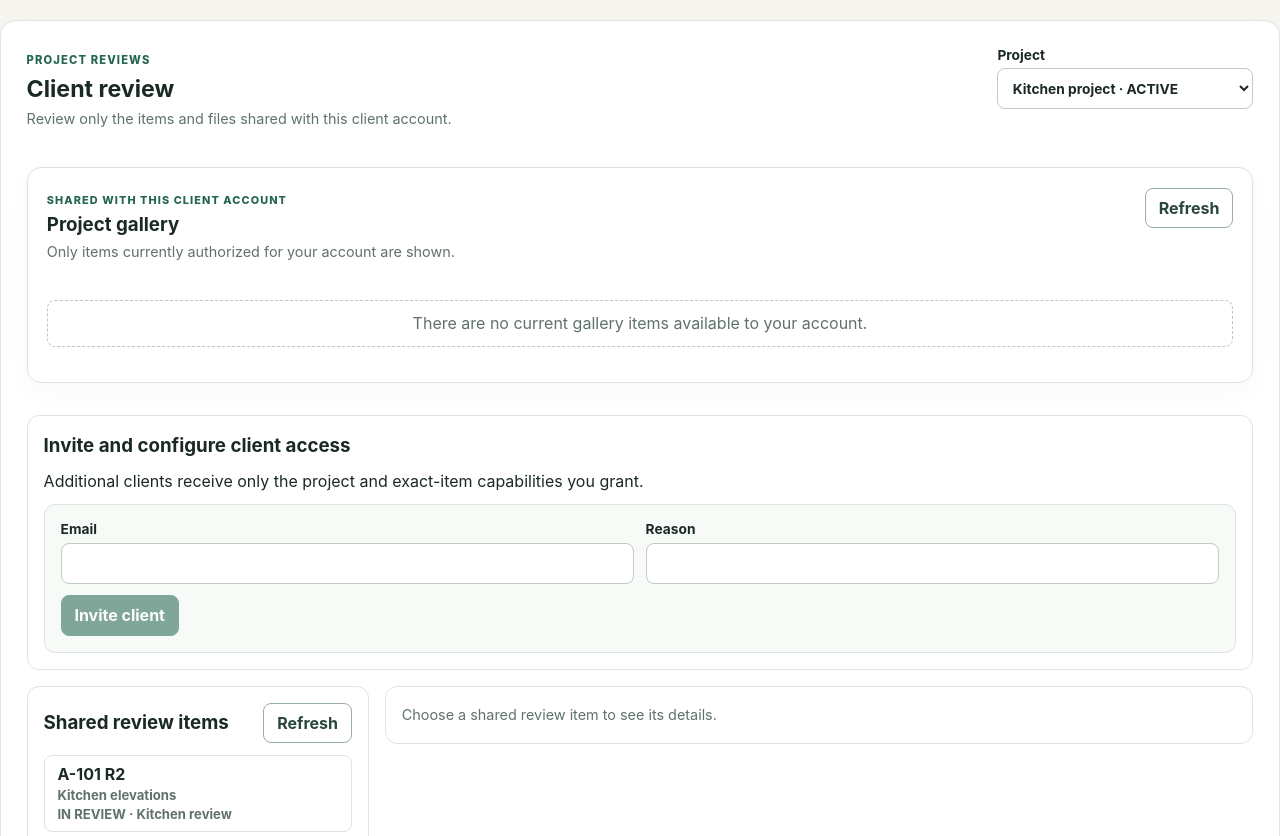
Test case: client review portal › requires browser UV proof before posting exact item approval
Step 1. Click the button "A-101 R2 Kitchen elevations IN REVIEW · Kitchen review" → [91, 774], box [44,755,352,832]
(page scrolled)
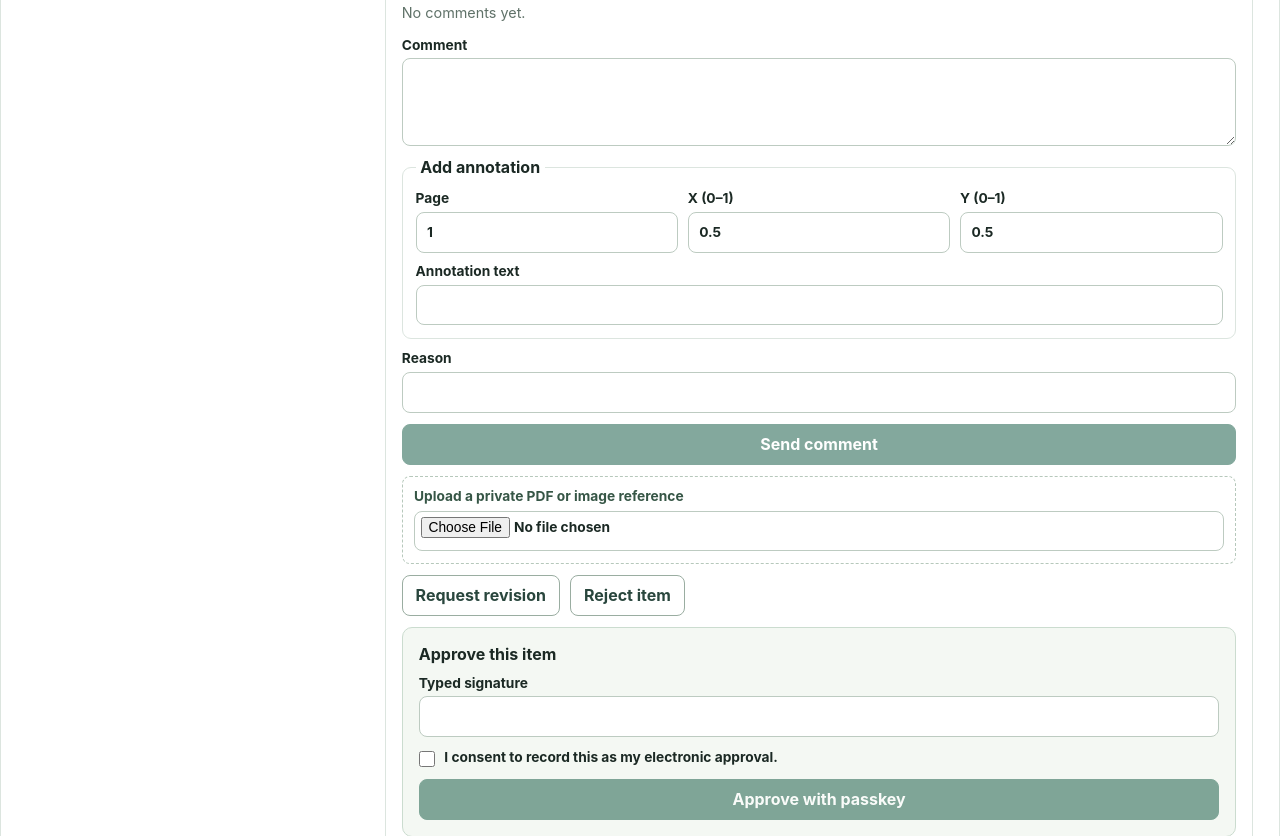
Step 2. Type "Client Signer" into the field labelled "Typed signature" → [819, 717], box [419,696,1219,737]
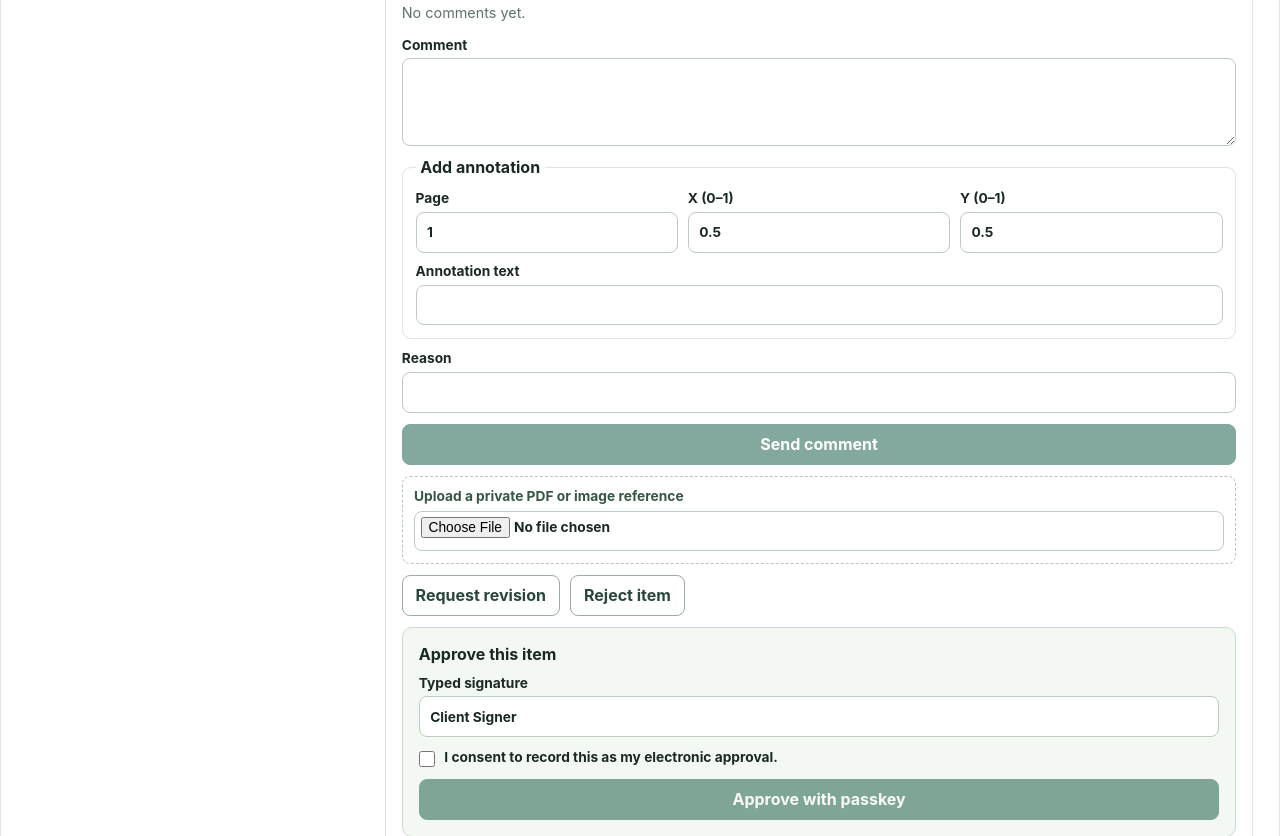
Step 3. Click the checkbox labelled "I consent to record this as my electronic approval." → [427, 759], box [419,751,435,767]
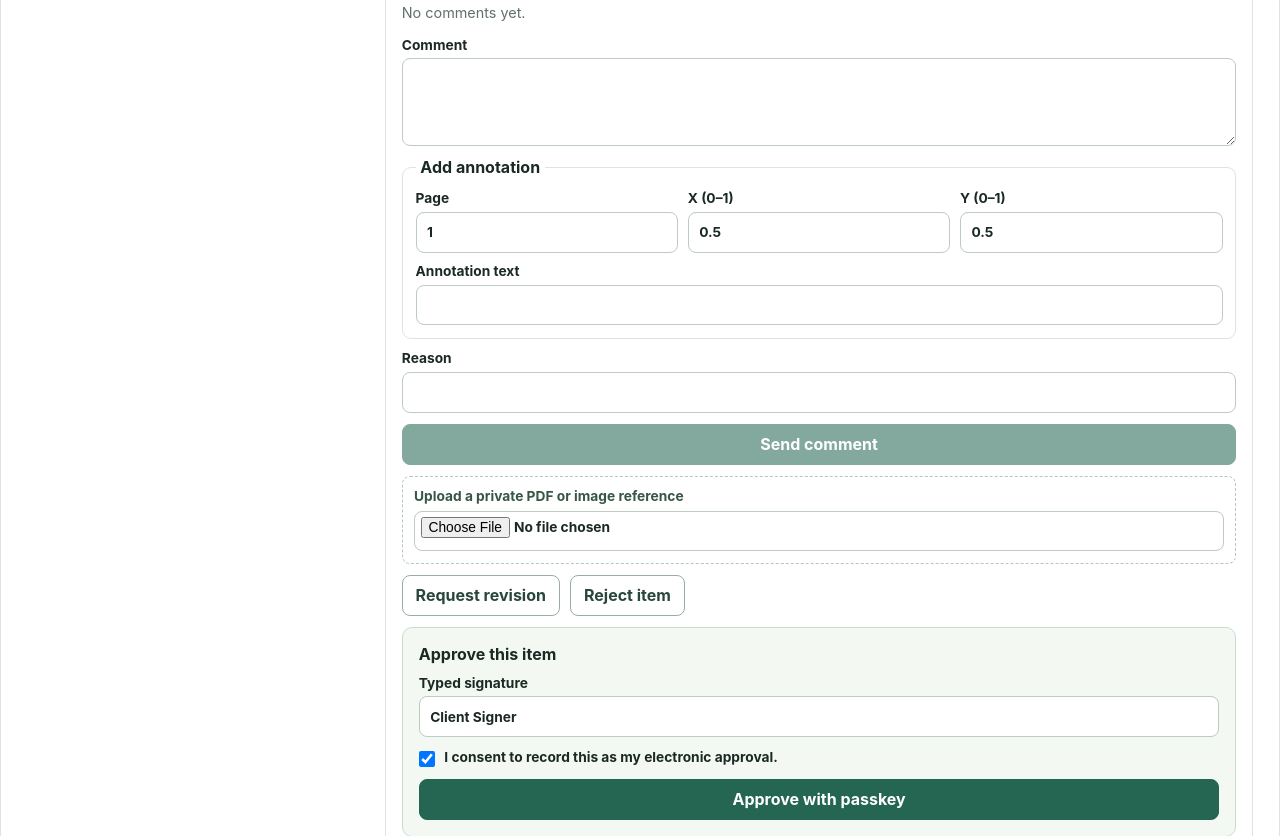
Step 4. Click the button "Approve with passkey" → [819, 799], box [419,779,1219,820]
(page scrolled)
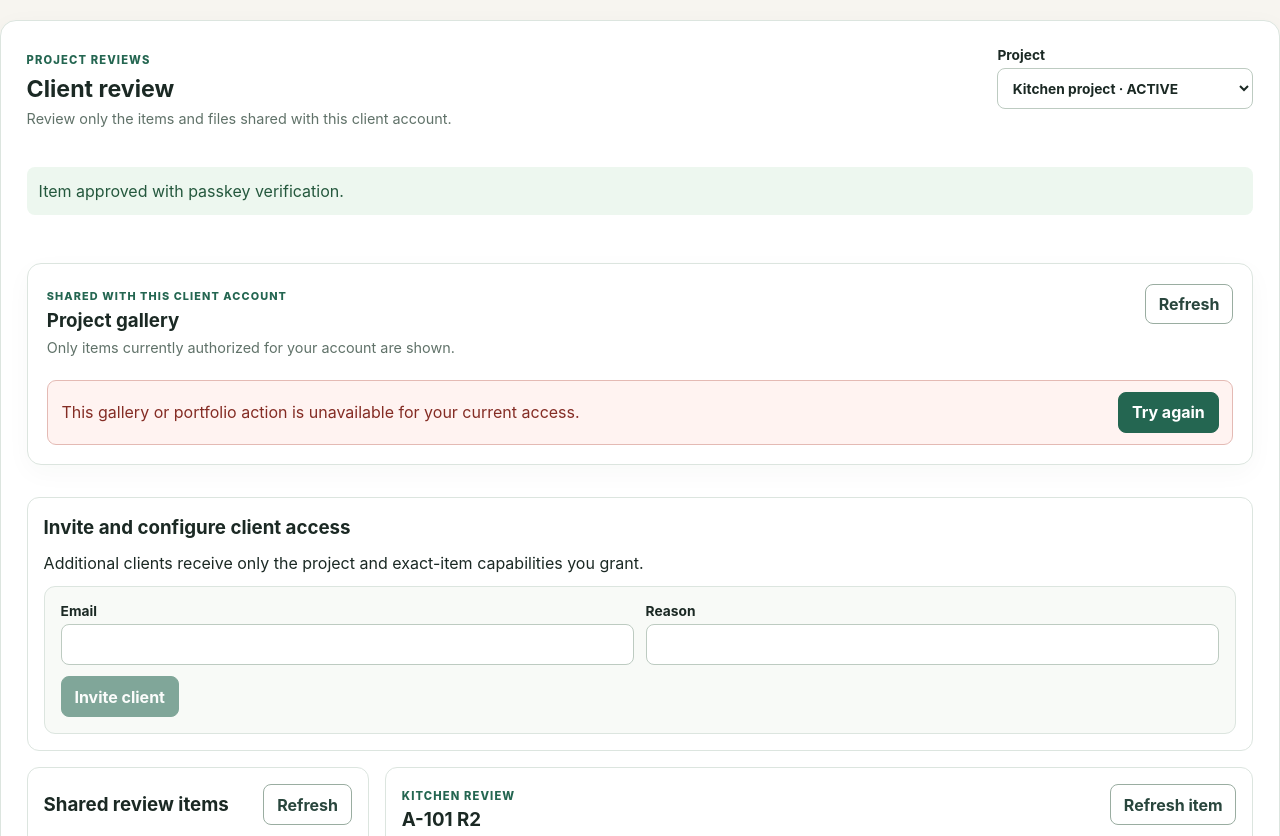
expect the text "Item approved with passkey verification." is shown: met, box [27,167,1253,215]
